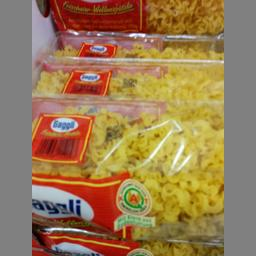pasta: (28, 100, 222, 242), (31, 60, 222, 100), (39, 33, 222, 58)
